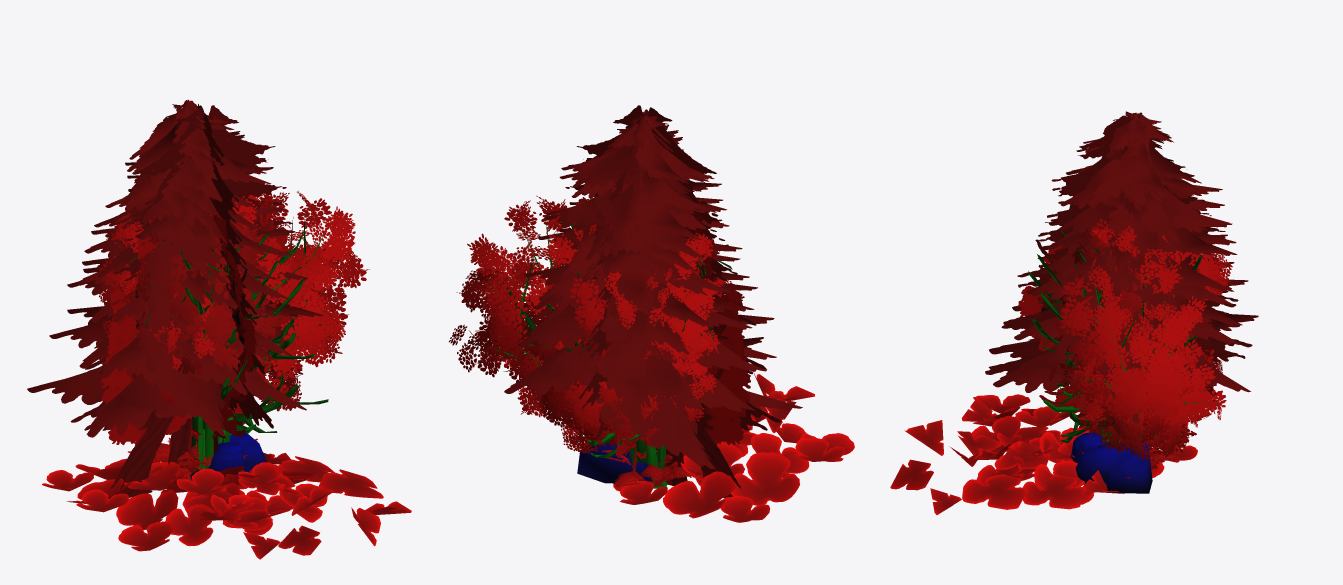
The model's file is vegetation.glb.
3 renders of one model, left to right at view 1: azimuth 30°, elevation 25°; view 2: azimuth 150°, elevation 25°; view 3: azimuth 270°, elevation 25°, orthographic. The views are drawn at different scales.
Visible parts, largest first — view 1: Pine_2_L0, Pine_1_L0, Plant_7_Big_L0, TwistedTree_1_L0, Plant_7_Big_L1, TwistedTree_1_L1, Pine_3_L0, Pine_1_L1, CommonTree_1_L0, TwistedTree_3_L0, CommonTree_2_L0, Pine_2_L1 (+10 smaller); view 2: Pine_2_L0, Pine_1_L0, TwistedTree_1_L0, Plant_7_Big_L0, Pine_3_L0, TwistedTree_3_L0, TwistedTree_2_L0, TwistedTree_1_L1, Pine_1_L1, Pine_2_L1, Rock_Medium_2_L1, Plant_7_Big_L1 (+3 smaller); view 3: TwistedTree_1_L0, Pine_1_L0, Pine_2_L0, Plant_7_Big_L1, Pine_3_L0, TwistedTree_3_L0, Plant_7_Big_L0, Pine_1_L1, Pine_2_L1, Plant_7_L0, CommonTree_2_L0, Rock_Medium_2_L1 (+6 smaller).
Part boxes in pixels (x1,y1,x2,y2): Pine_2_L0: [27, 100, 323, 437]; Pine_1_L0: [49, 101, 308, 378]; Plant_7_Big_L0: [42, 448, 293, 551]; TwistedTree_1_L0: [190, 190, 369, 480]; Plant_7_Big_L1: [161, 452, 411, 559]; TwistedTree_1_L1: [101, 219, 291, 497]; Pine_3_L0: [67, 99, 292, 420]; Pine_1_L1: [89, 105, 318, 401]; CommonTree_1_L0: [138, 209, 268, 470]; TwistedTree_3_L0: [102, 193, 324, 396]; CommonTree_2_L0: [146, 203, 281, 468]; Pine_2_L1: [70, 104, 329, 436]; Pine_2_L0: [504, 113, 802, 469]; Pine_1_L0: [518, 114, 776, 445]; TwistedTree_1_L0: [449, 195, 666, 488]; Plant_7_Big_L0: [613, 415, 854, 522]; Pine_3_L0: [534, 116, 754, 457]; TwistedTree_3_L0: [537, 197, 741, 486]; TwistedTree_2_L0: [644, 233, 726, 468]; TwistedTree_1_L1: [549, 244, 750, 498]; Pine_1_L1: [539, 108, 762, 440]; Pine_2_L1: [544, 107, 781, 444]; Rock_Medium_2_L1: [577, 442, 629, 483]; Plant_7_Big_L1: [576, 372, 814, 485]; TwistedTree_1_L0: [1049, 249, 1226, 460]; Pine_1_L0: [1012, 111, 1248, 406]; Pine_2_L0: [989, 112, 1258, 423]; Plant_7_Big_L1: [890, 398, 1124, 514]; Pine_3_L0: [1031, 112, 1237, 444]; TwistedTree_3_L0: [1060, 218, 1232, 454]; Plant_7_Big_L0: [971, 394, 1197, 480]; Pine_1_L1: [1001, 115, 1236, 346]; Pine_2_L1: [985, 115, 1252, 406]; Plant_7_L0: [977, 437, 1093, 504]; CommonTree_2_L0: [1051, 227, 1178, 442]; Rock_Medium_2_L1: [1106, 444, 1152, 493].
Bounding box in the file's own units: 8.69 × 8.69 × 9.11.
Materials: 2 (2 with a texture image).
